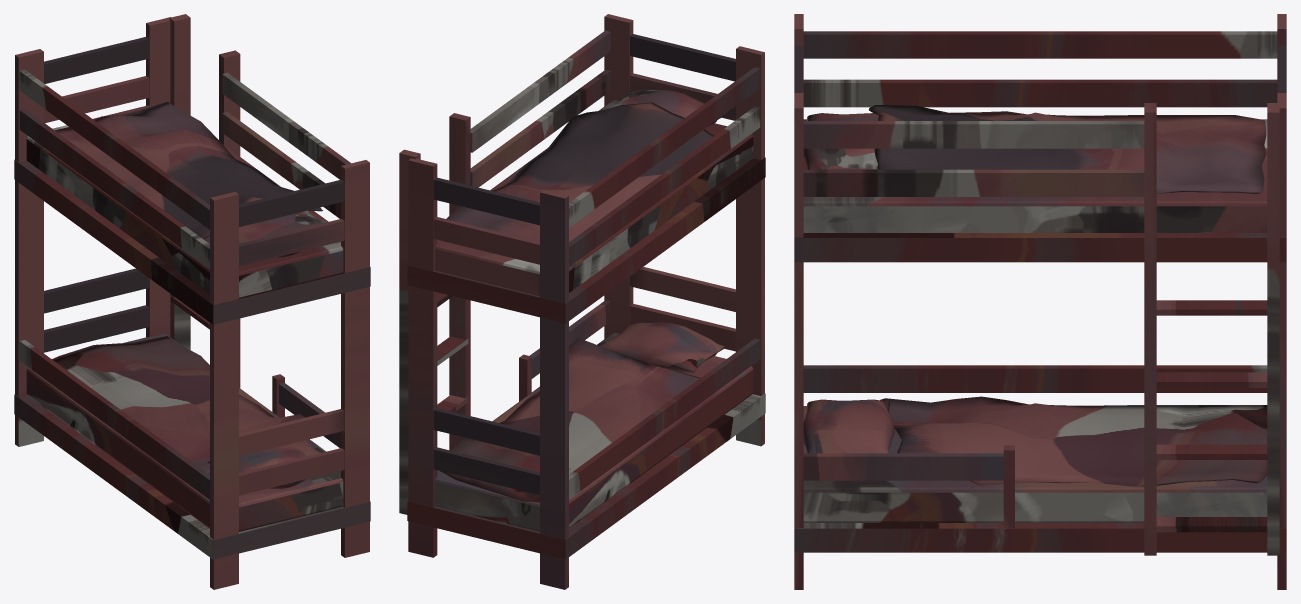
The model's file is bunk bed.fbx.
3 views of the same model, side by side, from view 1: azimuth 30°, elevation 25°; view 2: azimuth 150°, elevation 25°; view 3: azimuth 270°, elevation 25° (orthographic). The views are drawn at different scales.
Visible parts, largest first — view 1: bunk bed; view 2: bunk bed; view 3: bunk bed.
Part boxes in pixels (x1,y1,x2,y2): bunk bed: (14, 14, 370, 589); bunk bed: (399, 14, 765, 589); bunk bed: (794, 14, 1286, 589).
Size of the model in its own units: 637 by 1415 by 1304.
